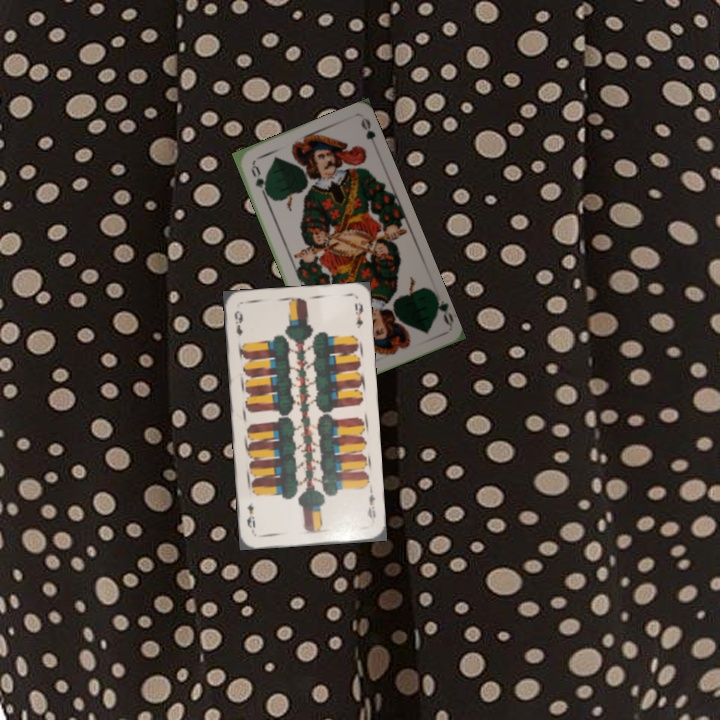E9: (363, 485, 378, 525), (230, 307, 245, 339)
GO: (247, 160, 272, 199), (430, 290, 455, 328)
